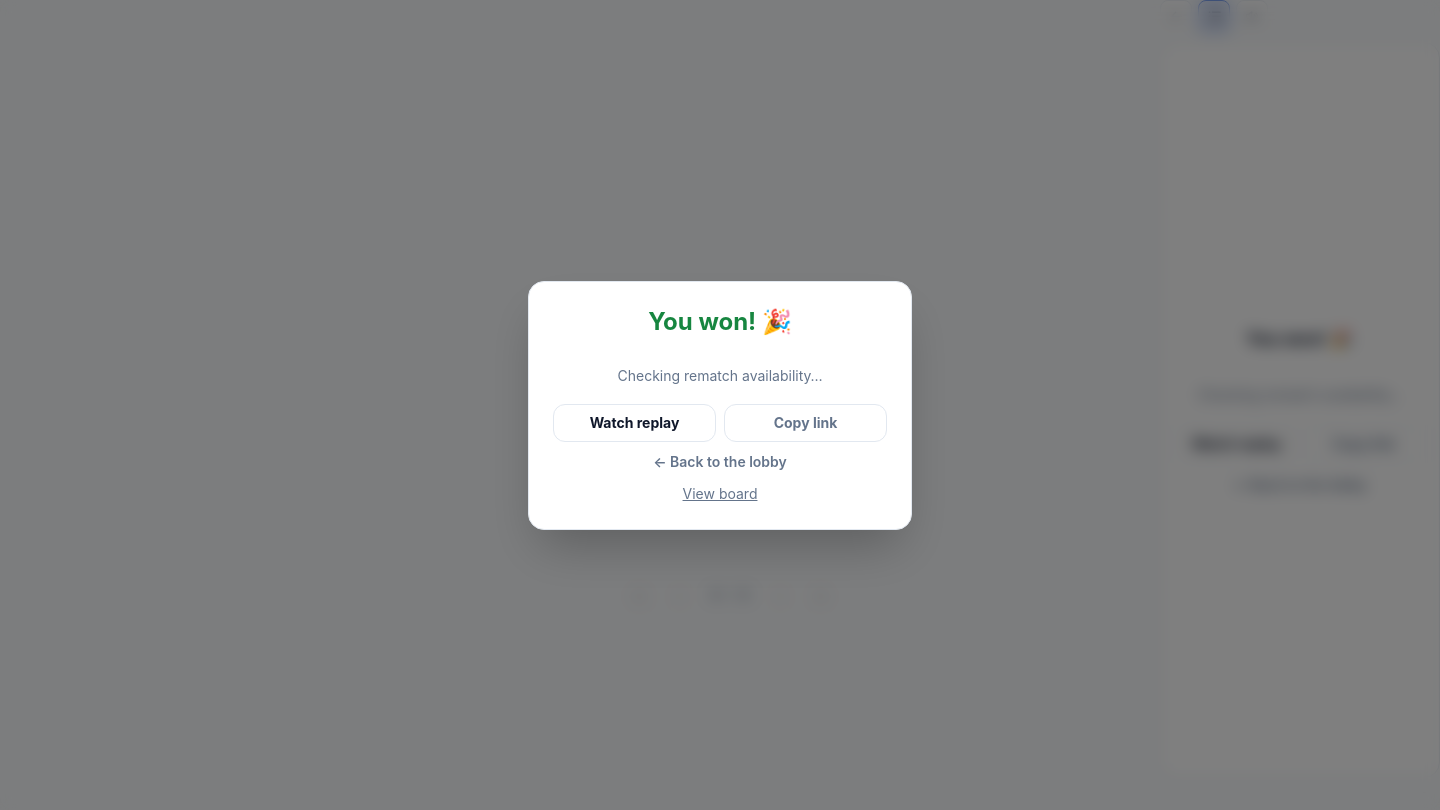
live board — finished-game replay actions › copies the absolute, token-free replay URL and confirms it
Click the button "Copy link" at [806, 422], box [724, 404, 887, 442]
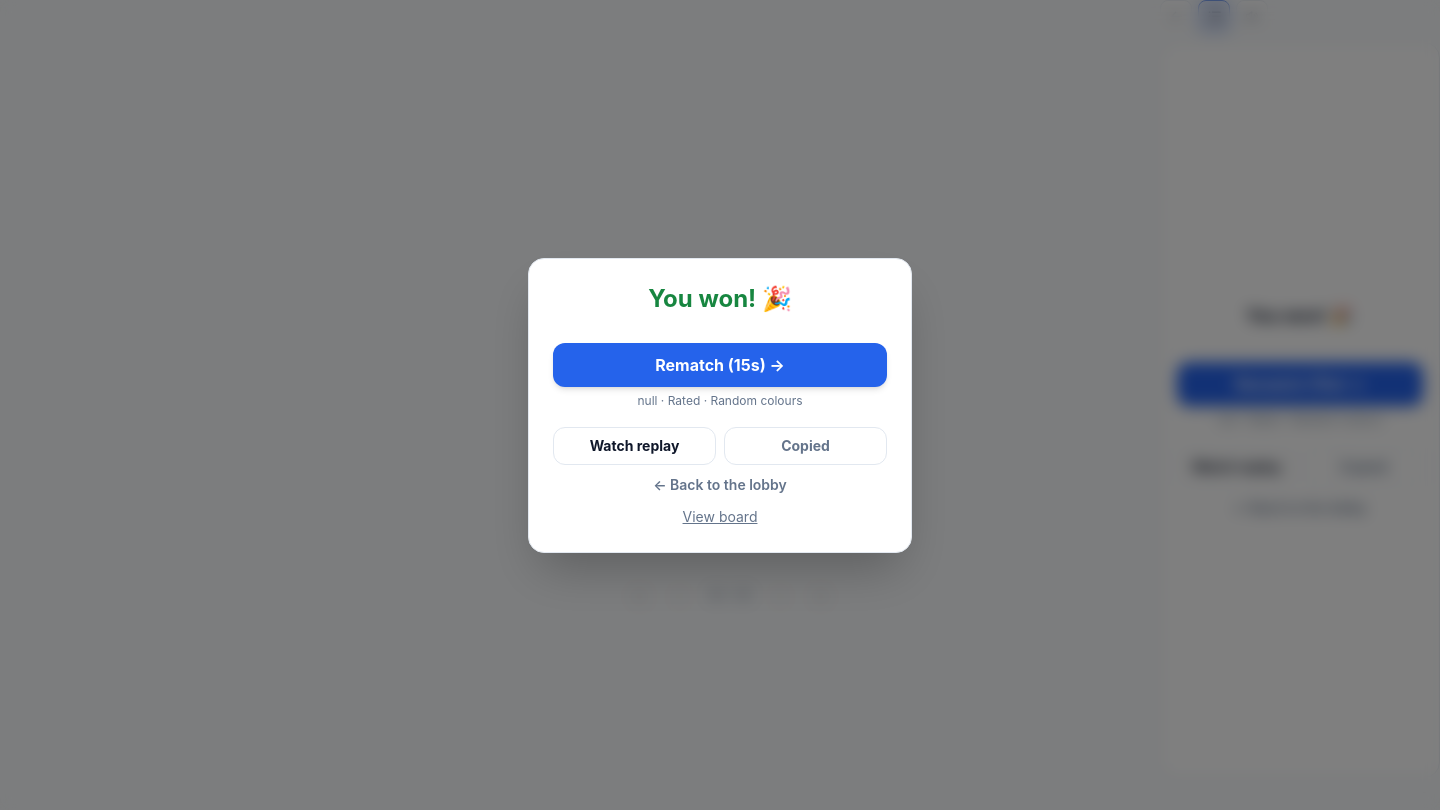
Check: the button "Copied" is shown, box [724, 426, 887, 464]
